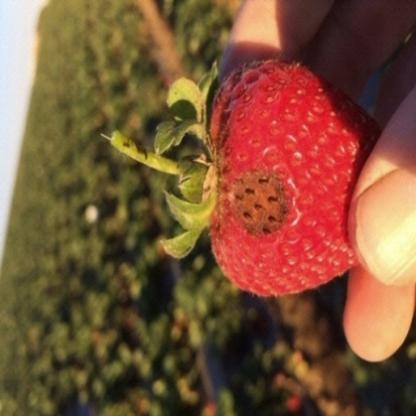Strawberry_Anthracnose_Fruit_Rot: (226, 170, 297, 237)
